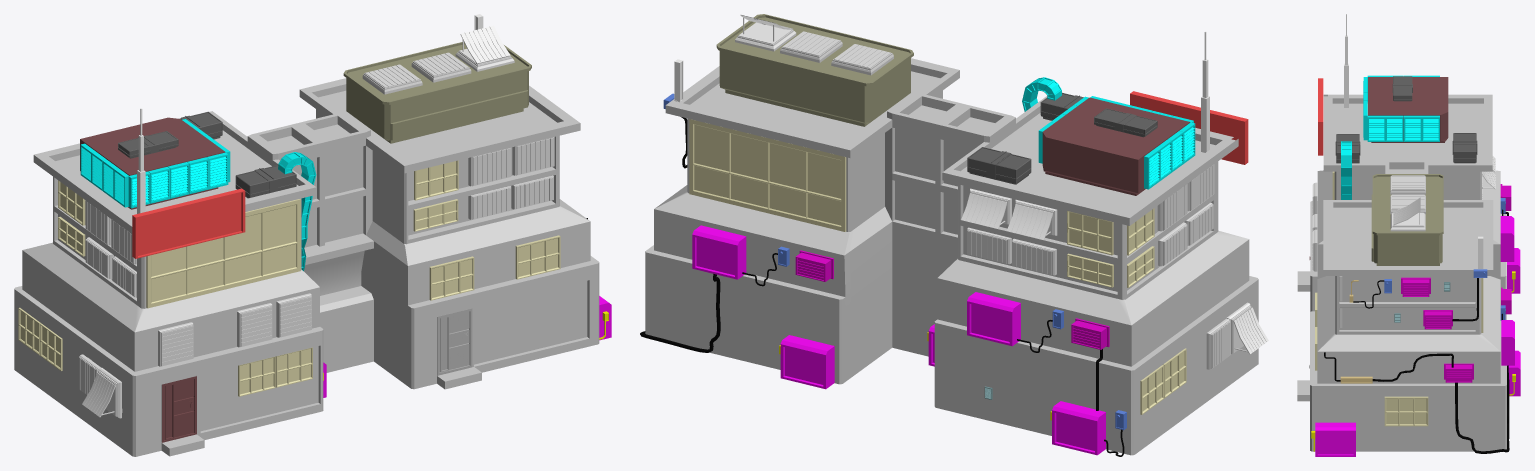
Rendered from Level 3 updated UV FInal.fbx.
3 views of the same model, side by side, from view 1: azimuth 30°, elevation 25°; view 2: azimuth 150°, elevation 25°; view 3: azimuth 270°, elevation 25° (orthographic). The views are drawn at different scales.
Parts seen in each view (by area): view 1: Main_Building, pCube1, pCube121, pCube38, pCube12, Door1, Door, pCube10, Window_16, Window_17, Window_4, pCube119 (+29 smaller); view 2: Main_Building, pCube61, pCube1, pCube12, pCube85, pCube83, pCube38, pCube84, pCube87, pCube11, Window_24, pCube106 (+24 smaller); view 3: Main_Building, pCube1, pCube12, pCube60, Window_22, pCube10, pCube11, pCube89, pCube84, Vent, pCube83, pCylinder4 (+19 smaller).
Part boxes in pixels (<box>): Main_Building: <box>14,78,599,456</box>; pCube1: <box>343,42,531,143</box>; pCube121: <box>146,199,300,308</box>; pCube38: <box>132,188,245,258</box>; pCube12: <box>80,117,225,209</box>; Door1: <box>437,308,472,375</box>; Door: <box>161,376,196,442</box>; pCube10: <box>455,25,514,71</box>; Window_16: <box>429,256,474,300</box>; Window_17: <box>515,235,560,279</box>; Window_4: <box>414,160,458,200</box>; pCube119: <box>235,165,296,198</box>; Main_Building: <box>645,58,1258,455</box>; pCube61: <box>689,119,846,231</box>; pCube1: <box>716,14,913,126</box>; pCube12: <box>1042,97,1189,195</box>; pCube85: <box>780,335,834,389</box>; pCube83: <box>692,225,746,279</box>; pCube38: <box>1130,91,1248,164</box>; pCube84: <box>967,292,1020,346</box>; pCube87: <box>1052,401,1105,455</box>; pCube11: <box>967,147,1031,184</box>; Window_24: <box>1067,211,1113,255</box>; pCube106: <box>1006,199,1057,239</box>; Main_Building: <box>1297,94,1506,451</box>; pCube1: <box>1371,174,1443,265</box>; pCube12: <box>1368,77,1448,142</box>; pCube60: <box>1315,422,1355,456</box>; Window_22: <box>1384,396,1428,426</box>; pCube10: <box>1390,197,1425,231</box>; pCube11: <box>1452,133,1477,163</box>; pCube89: <box>1390,175,1425,194</box>; pCube84: <box>1500,216,1514,261</box>; Vent: <box>1341,141,1351,199</box>; pCube83: <box>1501,320,1514,365</box>; pCylinder4: <box>1455,365,1509,453</box>.
Size of the model in its own units: 11.59 by 7.22 by 5.5.
